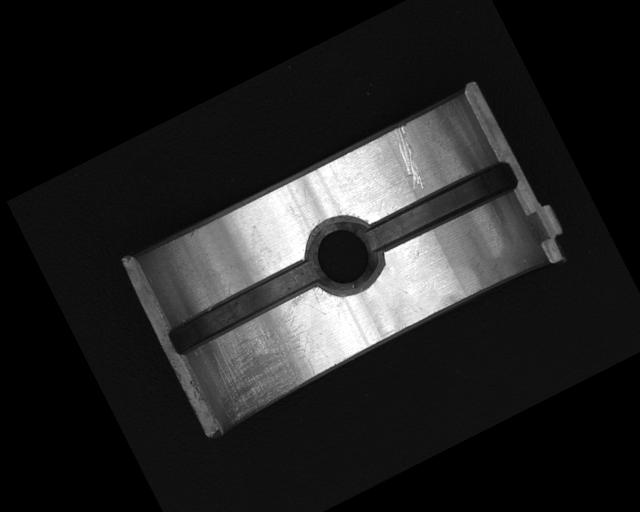gap: (164, 253, 325, 358), (363, 155, 521, 258)
hole: (294, 206, 394, 307)
nick: (383, 123, 433, 193)
scratch: (189, 294, 341, 430)
